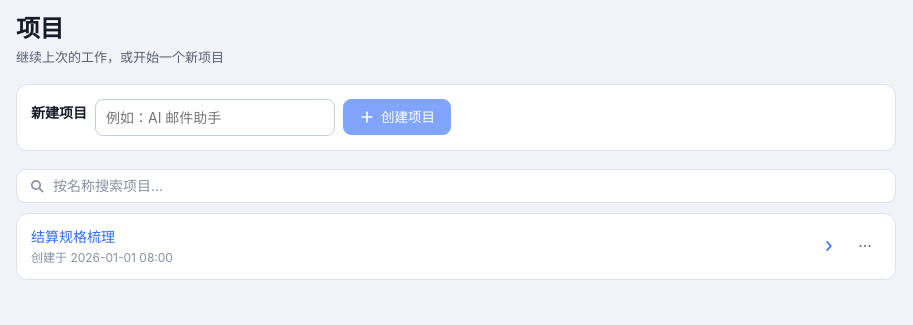
Test case: ProjectsView › highlights the matched part of the title without altering the text
Type "规格" into the field with test id "project-search" at coordinates (454, 186), box [53,168,855,202]
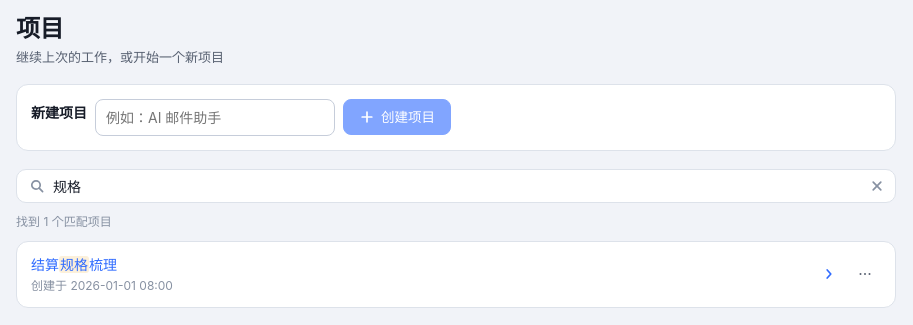
Check: the elements with test id "project-title-match" read "规格", in this order, box [59,256,89,272]
Check: the link "结算规格梳理" is shown, box [31,256,117,272]
